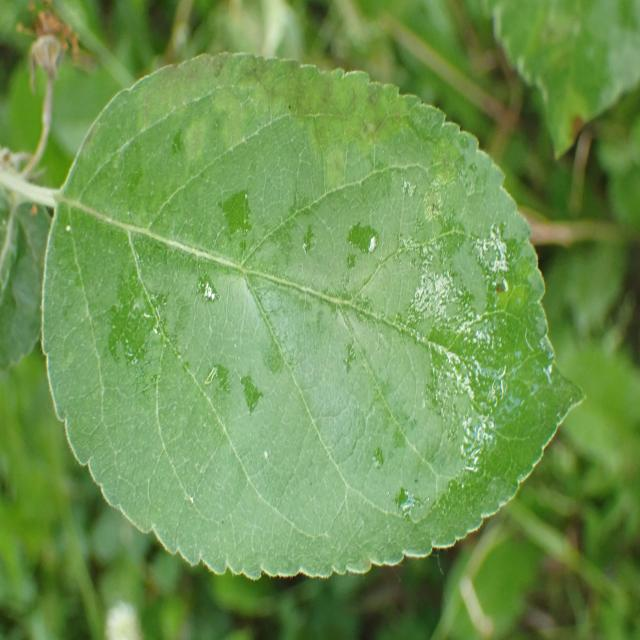scab: (88, 32, 525, 234), (515, 0, 624, 142)
